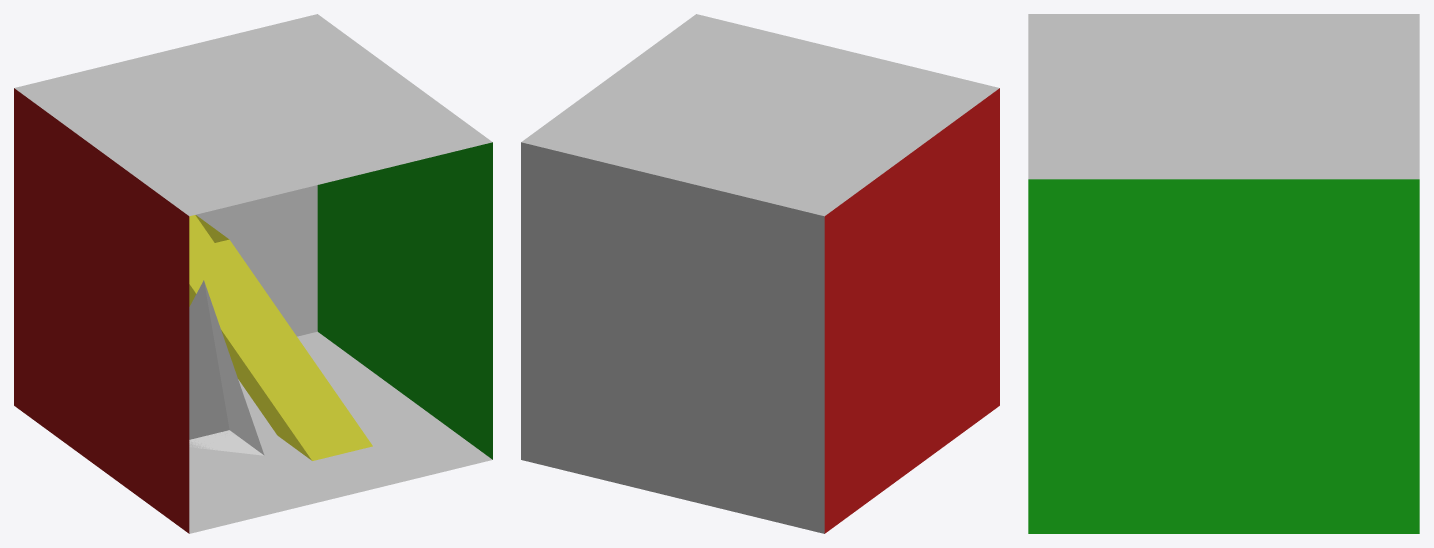
Rendered from cornell_box.obj.
3 views of the same model, side by side, from view 1: azimuth 30°, elevation 25°; view 2: azimuth 150°, elevation 25°; view 3: azimuth 270°, elevation 25° (orthographic). The views are drawn at different scales.
Bounding box in the file's own units: 2 × 2 × 2.
